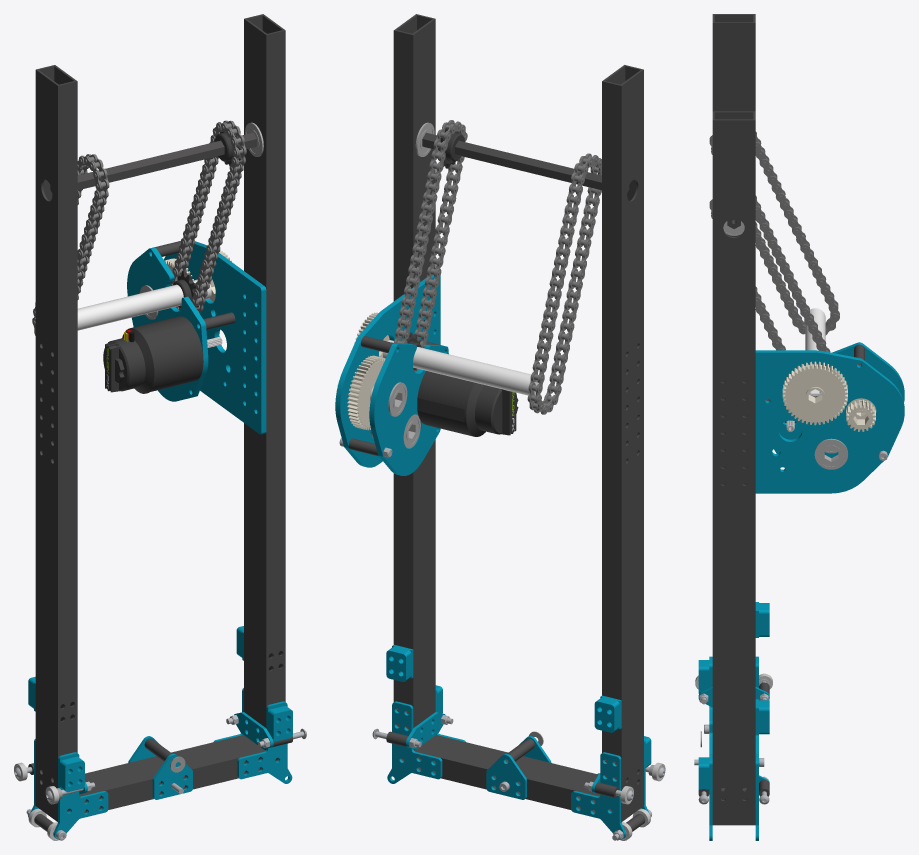
3 renders of one model, left to right at view 1: azimuth 30°, elevation 25°; view 2: azimuth 150°, elevation 25°; view 3: azimuth 270°, elevation 25°, orthographic. The views are drawn at different scales.
Visible parts, largest first — view 1: Part 3 (×2), Part 34, Falcon 500 (V1/2), Part 4, Part 33, Part 8 (×2), Part 41, Part 48, Part 29 (×2), Part 27, Part 11; view 2: Part 3 (×2), Part 4, Part 33, Falcon 500 (V1/2), Part 34, Part 8 (×2), Part 41, Part 48, Spur Gear (50T, 20DP, 1/2" Hex Bore), Part 29 (×2), Part 27, Part 11; view 3: Part 3 (×2), Part 34, Spur Gear (46T, 20DP, 1/2" Hex Bore), Part 33, 1/2" Hex x 1-1/8" OD (Flanged), Spur Gear (20T, 20DP, 1/2" Hex Bore), Part 41.
Part boxes in pixels (x1=…): Part 3 (×2): x1=35, y1=14, x2=285, y2=821; Part 34: x1=164, y1=241, x2=266, y2=434; Falcon 500 (V1/2): x1=103, y1=316, x2=203, y2=393; Part 4: x1=79, y1=735, x2=265, y2=813; Part 33: x1=127, y1=247, x2=208, y2=401; Part 8 (×2): x1=53, y1=701, x2=292, y2=839; Part 41: x1=77, y1=284, x2=183, y2=330; Part 48: x1=50, y1=132, x2=256, y2=192; Part 29 (×2): x1=59, y1=706, x2=292, y2=792; Part 27: x1=152, y1=753, x2=192, y2=799; Part 11: x1=234, y1=712, x2=273, y2=749; Part 3 (×2): x1=393, y1=14, x2=643, y2=822; Part 4: x1=414, y1=735, x2=600, y2=813; Part 33: x1=369, y1=343, x2=448, y2=475; Falcon 500 (V1/2): x1=417, y1=371, x2=518, y2=436; Part 34: x1=335, y1=275, x2=440, y2=467; Part 8 (×2): x1=387, y1=701, x2=626, y2=839; Part 41: x1=413, y1=347, x2=538, y2=395; Part 48: x1=422, y1=132, x2=629, y2=192; Spur Gear (50T, 20DP, 1/2" Hex Bore): x1=347, y1=355, x2=385, y2=430; Part 29 (×2): x1=386, y1=646, x2=619, y2=732; Part 27: x1=486, y1=753, x2=526, y2=799; Part 11: x1=406, y1=712, x2=445, y2=749; Part 3 (×2): x1=712, y1=14, x2=755, y2=825; Part 34: x1=755, y1=350, x2=904, y2=493; Spur Gear (46T, 20DP, 1/2" Hex Bore): x1=782, y1=361, x2=847, y2=425; Part 33: x1=774, y1=342, x2=904, y2=457; 1/2" Hex x 1-1/8" OD (Flanged): x1=814, y1=438, x2=848, y2=469; Spur Gear (20T, 20DP, 1/2" Hex Bore): x1=846, y1=399, x2=875, y2=431; Part 41: x1=805, y1=308, x2=825, y2=350.
Bounding box in the file's own units: 0.2655 × 0.7416 × 0.1955.
